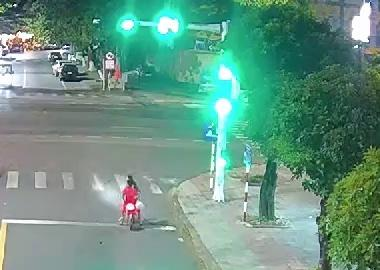green_light: (158, 10, 186, 39), (212, 91, 238, 121), (116, 11, 137, 36)
stop_line: (3, 216, 183, 231)
